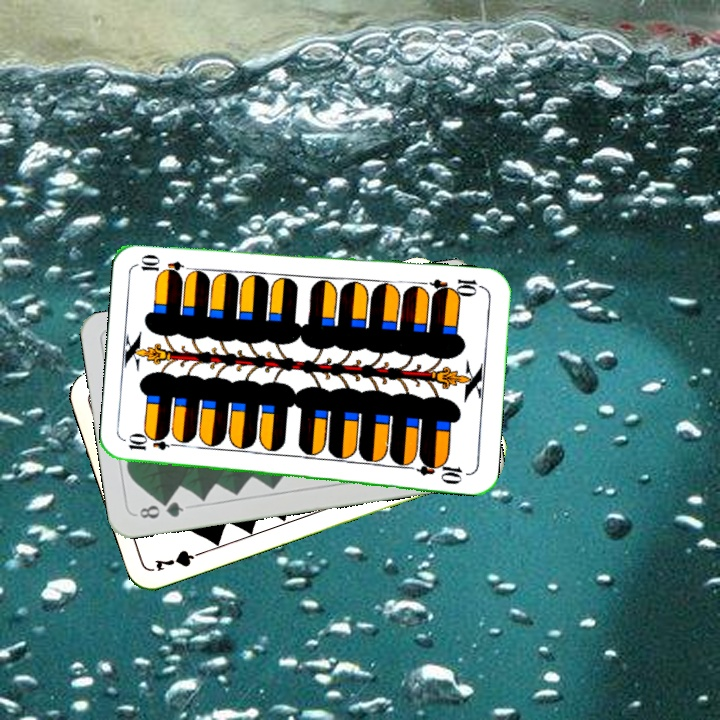E10: (427, 274, 486, 300), (124, 434, 183, 453)
G7: (150, 546, 209, 574)
G8: (135, 497, 186, 522)
